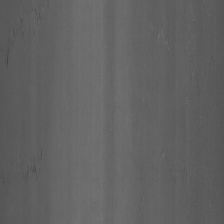silk_spot: (146, 13, 209, 58), (4, 2, 51, 62), (9, 137, 56, 195)
